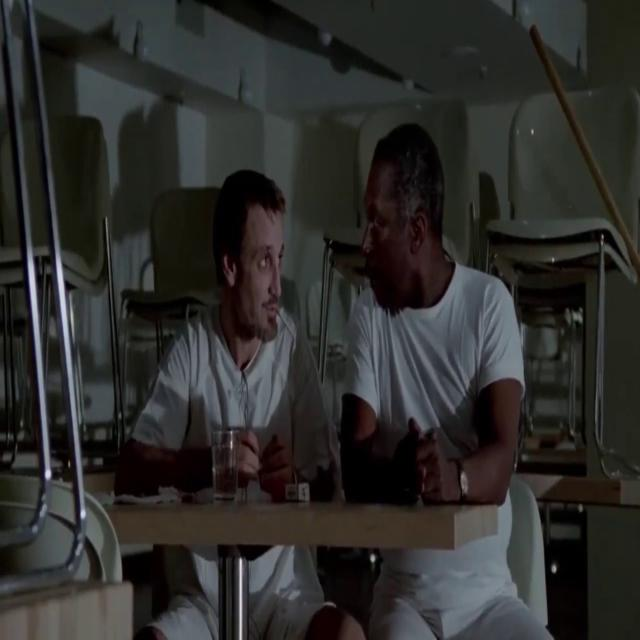Smooking: (278, 302, 298, 344)
